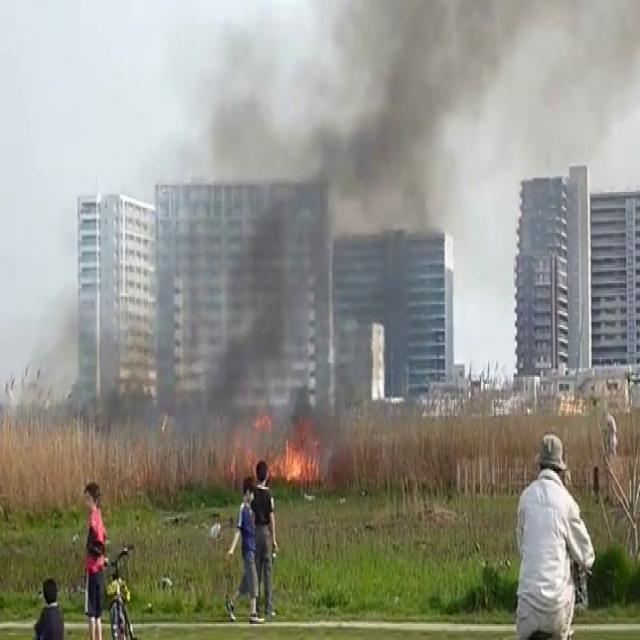Fire: (224, 413, 327, 488)
Smoke: (169, 0, 516, 437)
